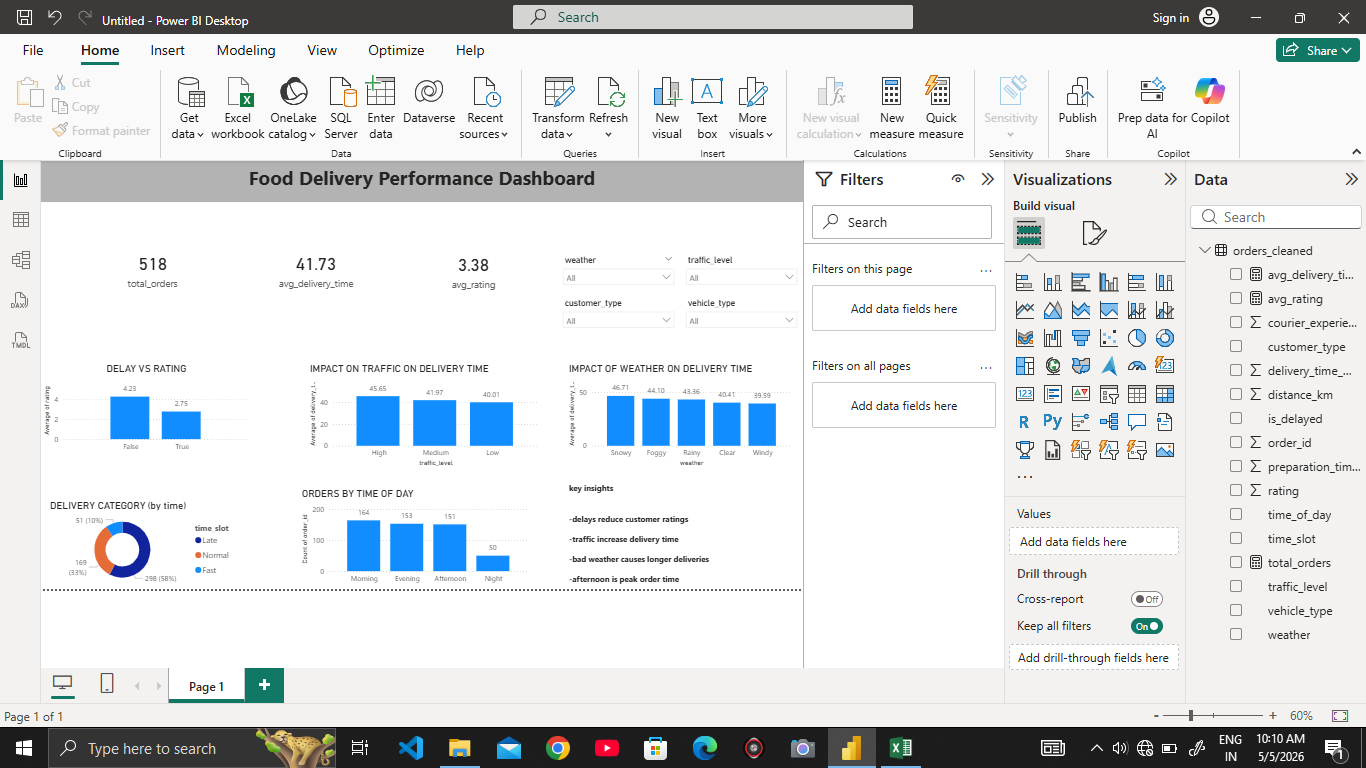

The page's visual inventory and layout, read from the dashboard file:
{"tool":"powerbi","page":{"name":"Page 1","canvas":[1280,720],"ordinal":0},"visuals":[{"type":"card","fields":{"Values":["orders_cleaned.total_orders"]},"box":[10.1,139.4,354.4,87.3],"z":0},{"type":"card","fields":{"Values":["orders_cleaned.avg_delivery_time"]},"box":[339.3,139.4,245.2,87.3],"z":1000},{"type":"card","fields":{"Values":["orders_cleaned.avg_rating"]},"box":[586.2,141.1,280.5,87.3],"z":2000},{"type":"clusteredColumnChart","title":"DELAY VS RATING","fields":{"Category":["orders_cleaned.is_delayed"],"Y":["Avg(orders_cleaned.rating)"]},"box":[0,339.3,354.4,159.6],"z":3000},{"type":"clusteredColumnChart","title":"IMPACT ON  TRAFFIC ON DELIVERY TIME","fields":{"Category":["orders_cleaned.traffic_level"],"Y":["Avg(orders_cleaned.delivery_time_min)"]},"box":[446.8,339.3,393.1,179.7],"z":4000},{"type":"clusteredColumnChart","title":"IMPACT OF WEATHER ON DELIVERY TIME","fields":{"Category":["orders_cleaned.weather"],"Y":["Avg(orders_cleaned.delivery_time_min)"]},"box":[881.9,339.3,383,179.7],"z":5000},{"type":"donutChart","title":"DELIVERY CATEGORY (by time)","fields":{"Category":["orders_cleaned.time_slot"],"Y":["CountNonNull(orders_cleaned.order_id)"]},"box":[10.1,569.4,329.2,151.2],"z":6000},{"type":"clusteredColumnChart","title":"ORDERS BY TIME OF DAY","fields":{"Category":["orders_cleaned.time_of_day"],"Y":["CountNonNull(orders_cleaned.order_id)"]},"box":[433.4,549.3,389.7,171.3],"z":7000},{"type":"slicer","fields":{"Values":["orders_cleaned.weather"]},"box":[866.8,154.5,206.6,57.1],"z":8000},{"type":"slicer","fields":{"Values":["orders_cleaned.traffic_level"]},"box":[1073.4,154.5,206.6,72.2],"z":9000},{"type":"slicer","fields":{"Values":["orders_cleaned.vehicle_type"]},"box":[1073.4,226.8,206.6,55.4],"z":10000},{"type":"slicer","fields":{"Values":["orders_cleaned.customer_type"]},"box":[866.8,226.8,206.6,63.8],"z":11000},{"type":"textbox","box":[0,1.7,1280,68.9],"z":11001},{"type":"textbox","box":[881.9,537.5,383,183.1],"z":11002}]}

Visuals, with their boxes on the page's 1280x720 design canvas (x1, y1, x2, y2). These are canvas units, not pixel positions in the 1366x768 screenshot, which may show the page scaled, cropped or inside an application window:
card - orders_cleaned.total_orders: rect(10, 139, 364, 227)
card - orders_cleaned.avg_delivery_time: rect(339, 139, 584, 227)
card - orders_cleaned.avg_rating: rect(586, 141, 867, 228)
"DELAY VS RATING" clusteredColumnChart: rect(0, 339, 354, 499)
"IMPACT ON  TRAFFIC ON DELIVERY TIME" clusteredColumnChart: rect(447, 339, 840, 519)
"IMPACT OF WEATHER ON DELIVERY TIME" clusteredColumnChart: rect(882, 339, 1265, 519)
"DELIVERY CATEGORY (by time)" donutChart: rect(10, 569, 339, 721)
"ORDERS BY TIME OF DAY" clusteredColumnChart: rect(433, 549, 823, 721)
slicer - orders_cleaned.weather: rect(867, 154, 1073, 212)
slicer - orders_cleaned.traffic_level: rect(1073, 154, 1280, 227)
slicer - orders_cleaned.vehicle_type: rect(1073, 227, 1280, 282)
slicer - orders_cleaned.customer_type: rect(867, 227, 1073, 291)
textbox: rect(0, 2, 1280, 71)
textbox: rect(882, 538, 1265, 721)
